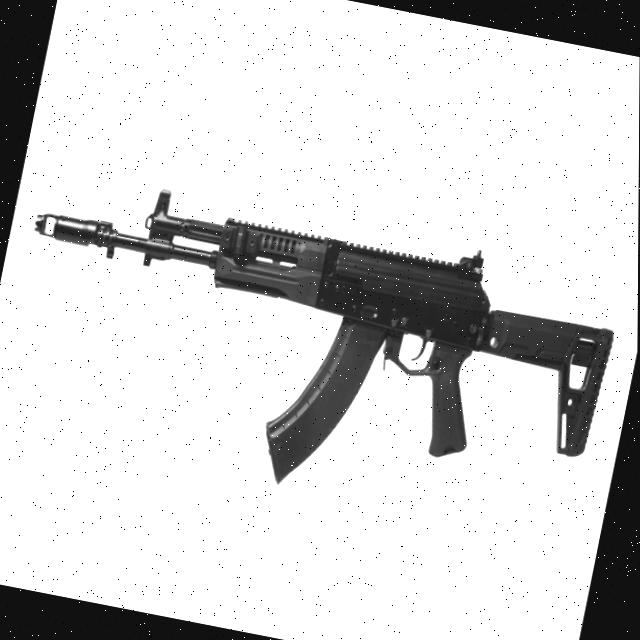firearm: (0, 163, 628, 546)
